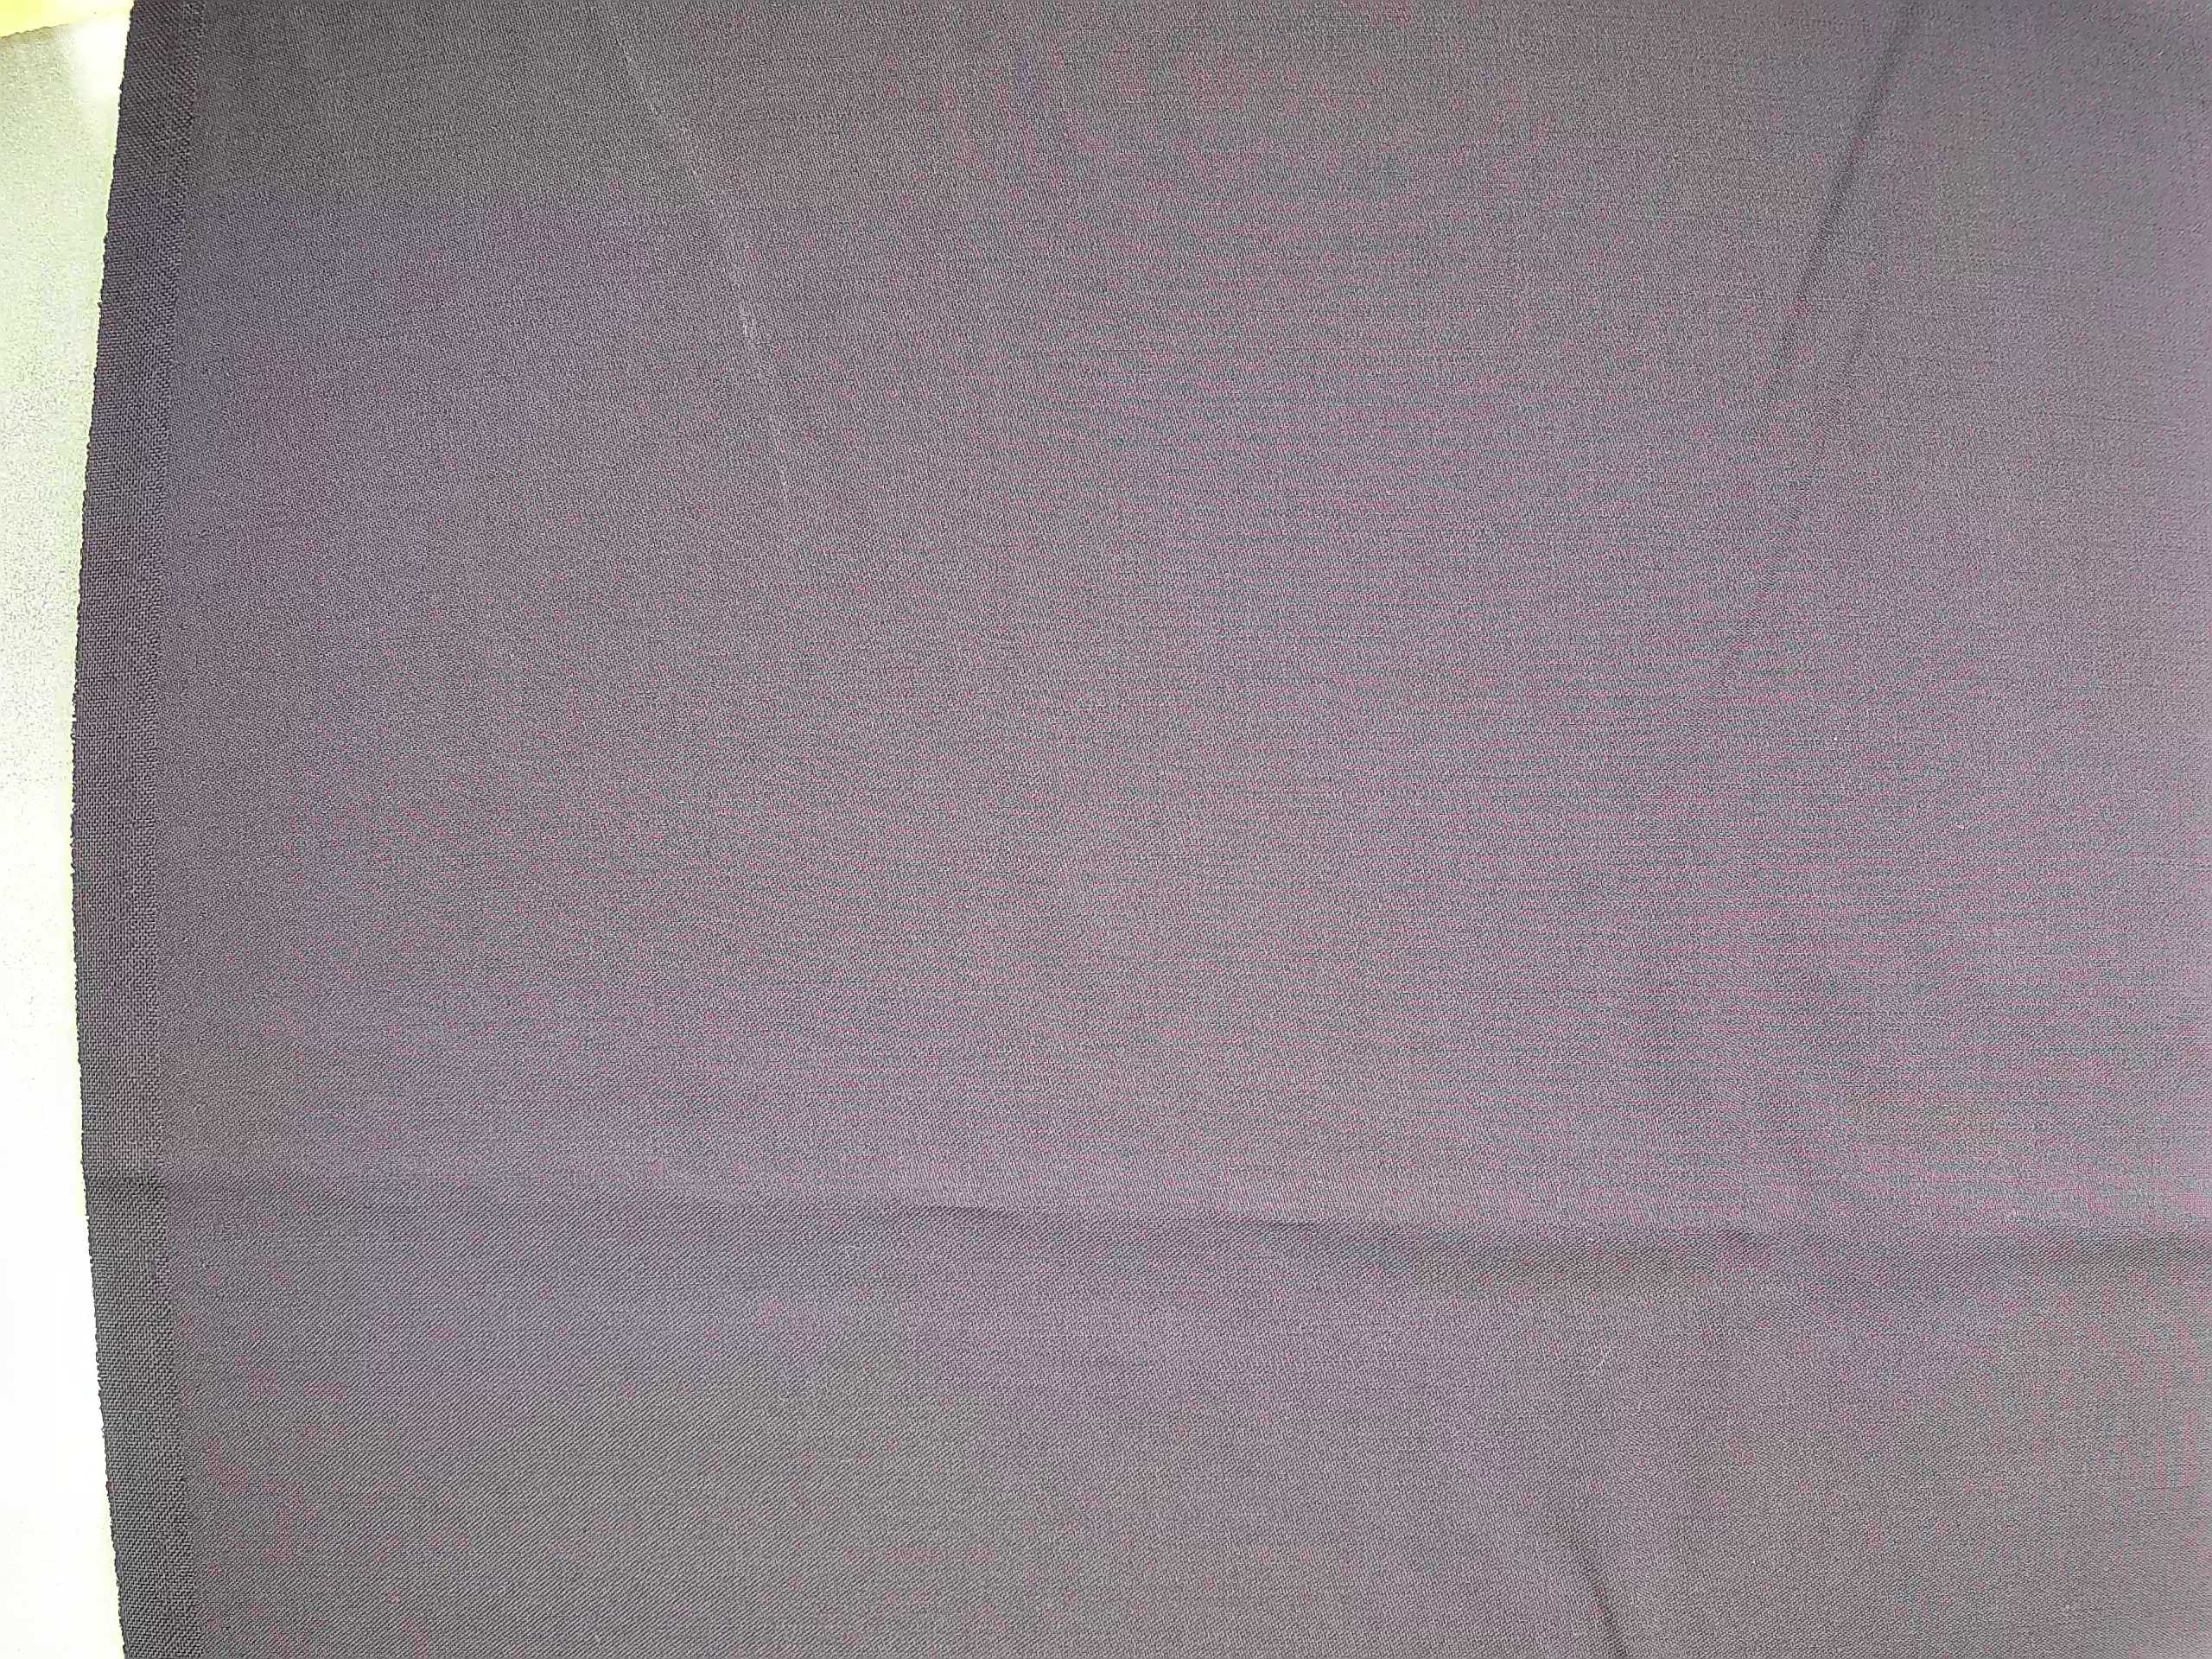others: (172, 918, 221, 1162), (164, 608, 209, 713), (164, 512, 219, 549), (185, 347, 221, 390)
